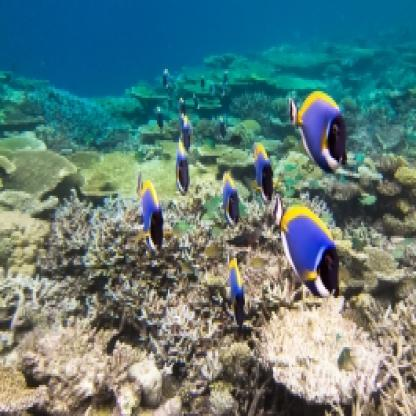Acanthuridae -Surgeonfishes-: (273, 197, 343, 306), (290, 88, 349, 179), (136, 174, 167, 257), (227, 255, 249, 333)
